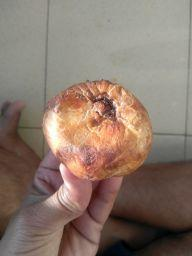guava: (41, 75, 158, 182)
